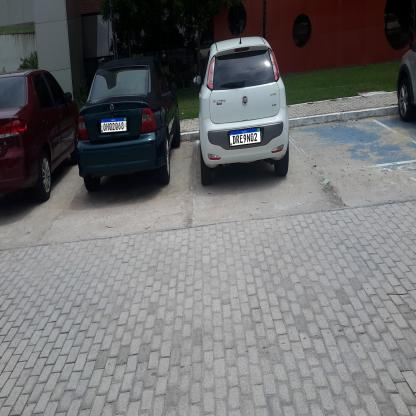PlacaM: (229, 127, 261, 147), (100, 116, 127, 134)
